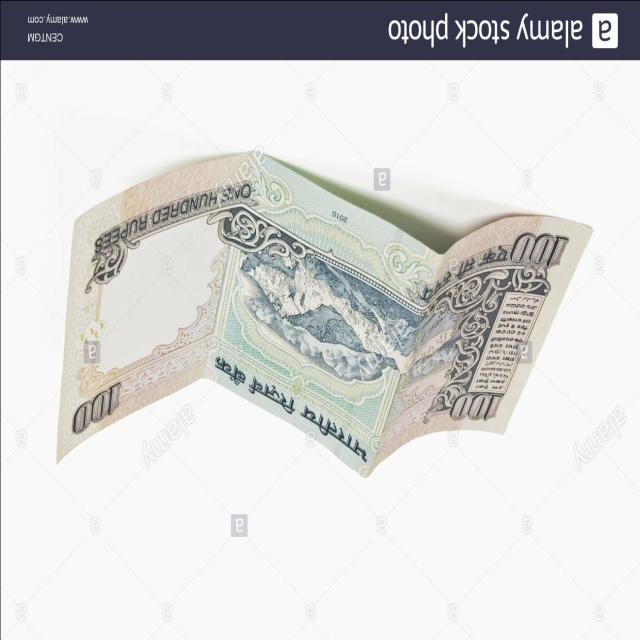100IndianRupees: (57, 148, 596, 473)
